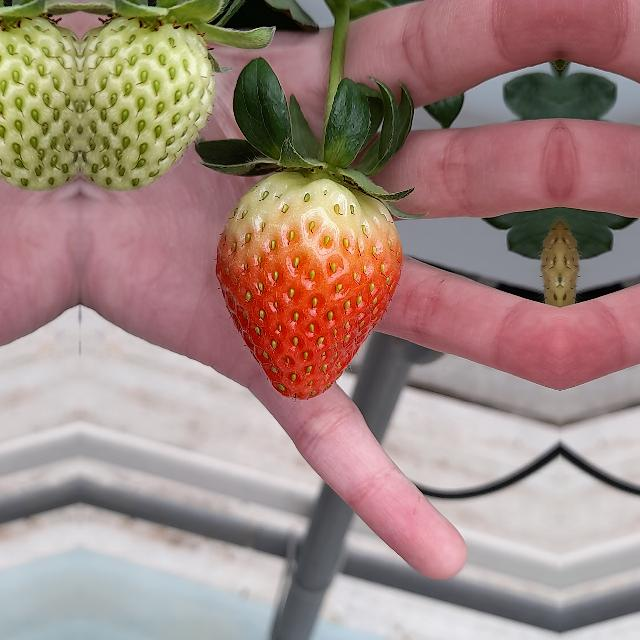Health_25: (80, 0, 218, 198), (0, 0, 80, 198)
Health_75: (215, 169, 402, 399)
